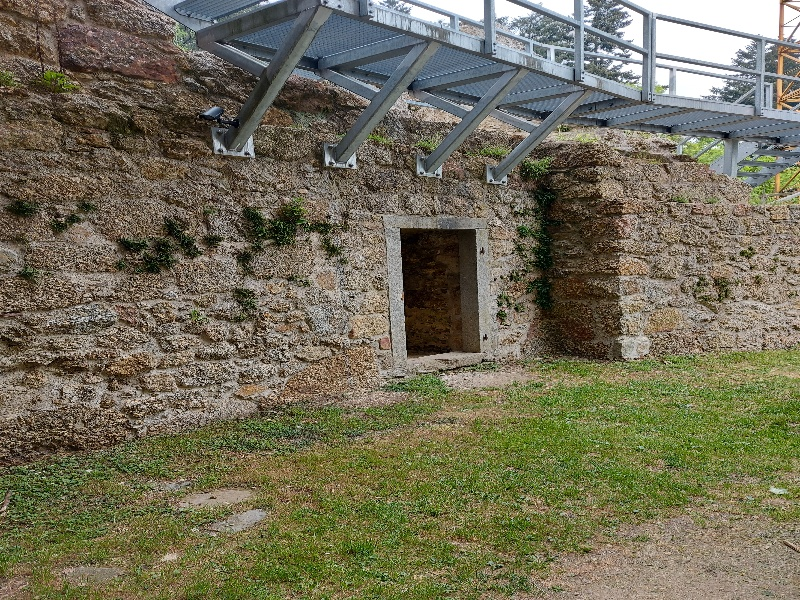door1: (377, 202, 503, 376)
